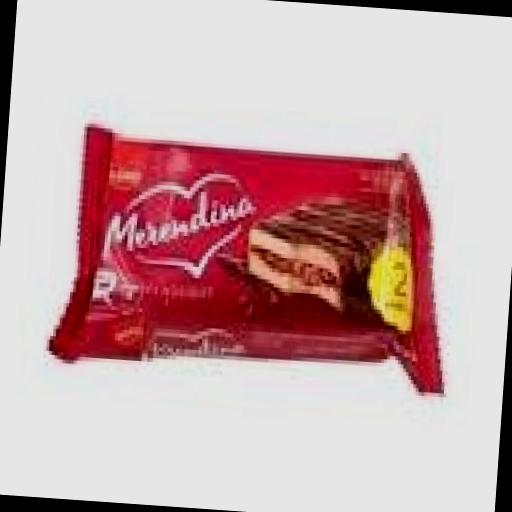merendina: (46, 104, 484, 429)
